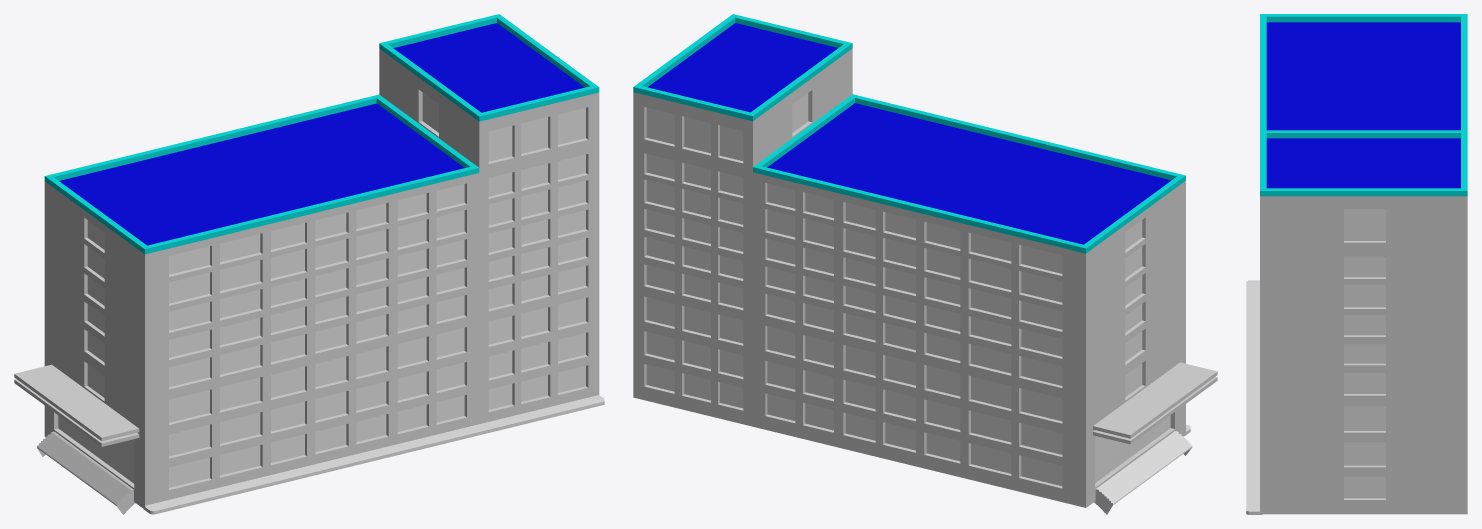
The model's file is JianZhu05.fbx.
3 renders of one model, left to right at view 1: azimuth 30°, elevation 25°; view 2: azimuth 150°, elevation 25°; view 3: azimuth 270°, elevation 25°, orthographic. The views are drawn at different scales.
Parts seen in each view (by area): view 1: polySurface1893, JianZhu05, polySurface1947, polySurface1945; view 2: polySurface1893, JianZhu05, polySurface1947, polySurface1945; view 3: polySurface1893, polySurface1947, JianZhu05, polySurface1945.
Boxes of the visible parts, x1,y1,x2,y2 form: polySurface1893: (44,49,599,509); JianZhu05: (14,92,604,514); polySurface1947: (59,23,584,245); polySurface1945: (44,14,599,254); polySurface1893: (633,48,1185,507); JianZhu05: (646,93,1217,514); polySurface1947: (648,23,1171,244); polySurface1945: (633,14,1185,253); polySurface1893: (1260,196,1467,514); polySurface1947: (1266,22,1460,188); JianZhu05: (1246,209,1385,514); polySurface1945: (1260,14,1467,196).
Size of the model in its own units: 176 by 111 by 66.34.
